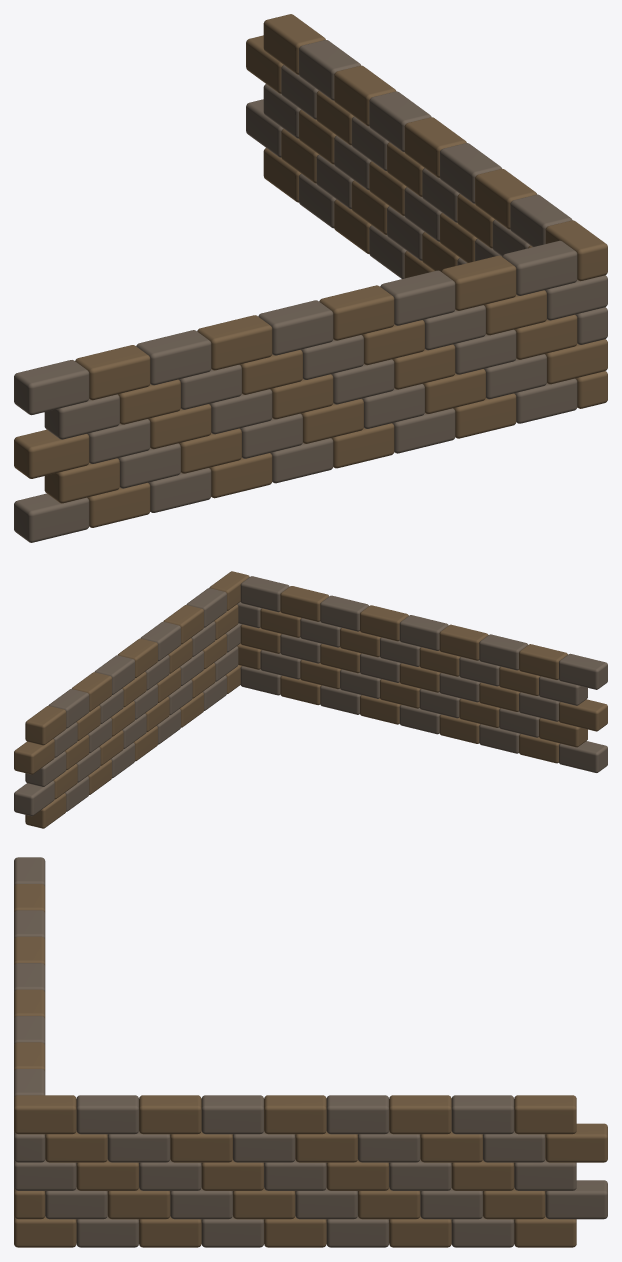
Rendered from Wall.fbx.
3 views of the same model, one above another, from view 1: azimuth 30°, elevation 25°; view 2: azimuth 150°, elevation 25°; view 3: azimuth 270°, elevation 25° (orthographic). The views are drawn at different scales.
Parts seen in each view (by area): view 1: pCube42 (×2), pCube19 (×2), pCube29 (×2), pCube18 (×2), pCube44 (×2), pCube30 (×2), pCube32 (×2), pCube17 (×2), pCube43 (×2), pCube33 (×2), pCube40 (×2), pCube23 (×2) (+33 smaller); view 2: pCube32 (×2), pCube30 (×2), pCube17 (×2), pCube18 (×2), pCube19 (×2), pCube44 (×2), pCube29 (×2), pCube42 (×2), pCube43 (×2), pCube21 (×2), pCube25 (×2), pCube23 (×2) (+33 smaller); view 3: pCube30 (×2), pCube18 (×2), pCube43 (×2), pCube29 (×2), pCube17 (×2), pCube42 (×2), pCube44 (×2), pCube19 (×2), pCube32 (×2), pCube31 (×2), pCube23 (×2), pCube22 (+33 smaller).
Boxes of the visible parts, x1,y1,x2,y2 form: pCube42 (×2): [14, 220, 607, 415]; pCube19 (×2): [319, 91, 431, 340]; pCube29 (×2): [334, 65, 455, 325]; pCube18 (×2): [258, 117, 466, 355]; pCube44 (×2): [136, 168, 537, 385]; pCube30 (×2): [299, 40, 516, 310]; pCube32 (×2): [263, 14, 577, 295]; pCube17 (×2): [197, 143, 501, 370]; pCube43 (×2): [75, 194, 572, 400]; pCube33 (×2): [14, 307, 607, 478]; pCube40 (×2): [14, 371, 607, 542]; pCube23 (×2): [246, 99, 607, 384]; pCube32 (×2): [25, 576, 289, 745]; pCube30 (×2): [48, 586, 329, 728]; pCube17 (×2): [140, 621, 488, 661]; pCube18 (×2): [118, 615, 448, 678]; pCube19 (×2): [94, 605, 408, 694]; pCube44 (×2): [163, 605, 527, 670]; pCube29 (×2): [71, 595, 368, 711]; pCube42 (×2): [209, 571, 607, 689]; pCube43 (×2): [186, 588, 567, 679]; pCube21 (×2): [25, 666, 281, 828]; pCube25 (×2): [25, 624, 281, 786]; pCube23 (×2): [14, 643, 261, 816]; pCube30 (×2): [14, 1042, 514, 1134]; pCube18 (×2): [14, 963, 326, 1134]; pCube43 (×2): [14, 884, 138, 1134]; pCube29 (×2): [14, 1016, 451, 1134]; pCube17 (×2): [14, 936, 263, 1134]; pCube42 (×2): [14, 857, 76, 1134]; pCube44 (×2): [14, 910, 201, 1134]; pCube19 (×2): [14, 989, 388, 1134]; pCube32 (×2): [14, 1069, 576, 1134]; pCube31 (×2): [14, 1123, 607, 1162]; pCube23 (×2): [14, 1180, 607, 1219]; pCube22: [451, 1159, 514, 1190].
Bounding box in the file's own units: 19 × 5 × 19.
